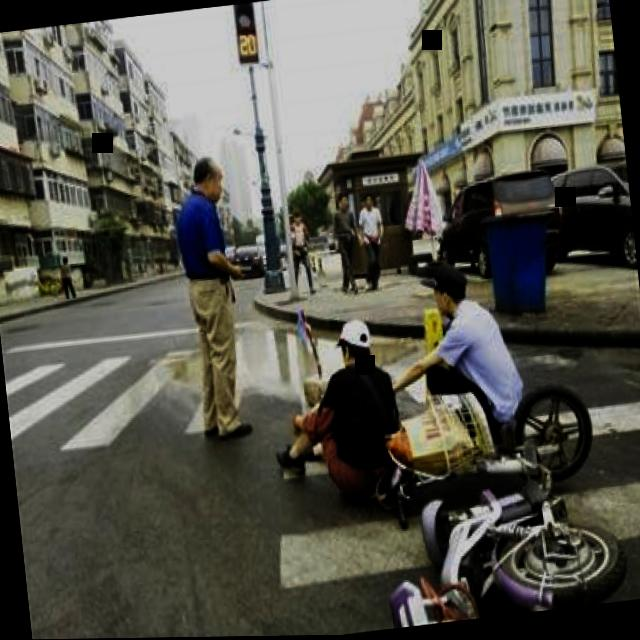Fall-Detected: (256, 298, 418, 506)
